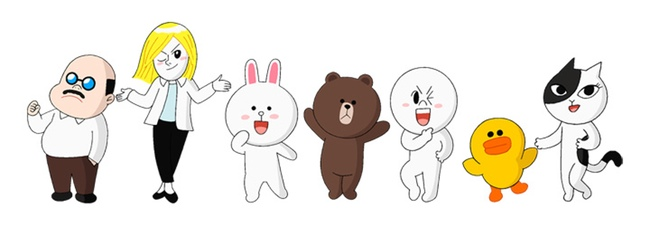line_brown: (308, 69, 384, 142)
